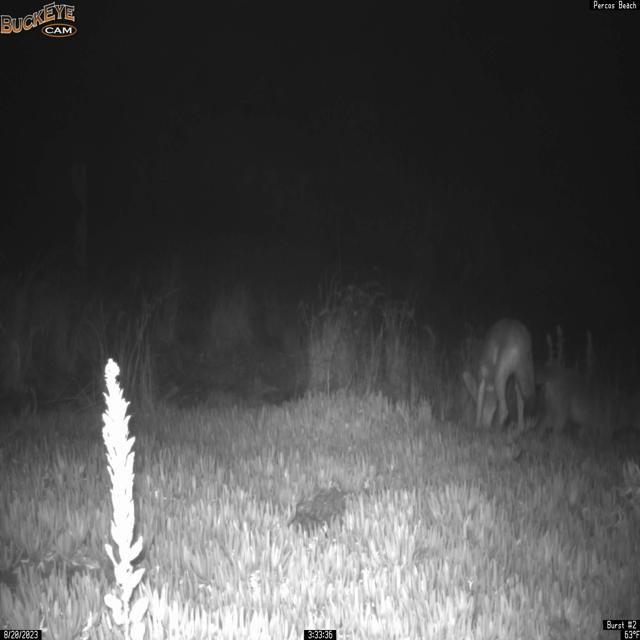coyote: (462, 316, 537, 434)
